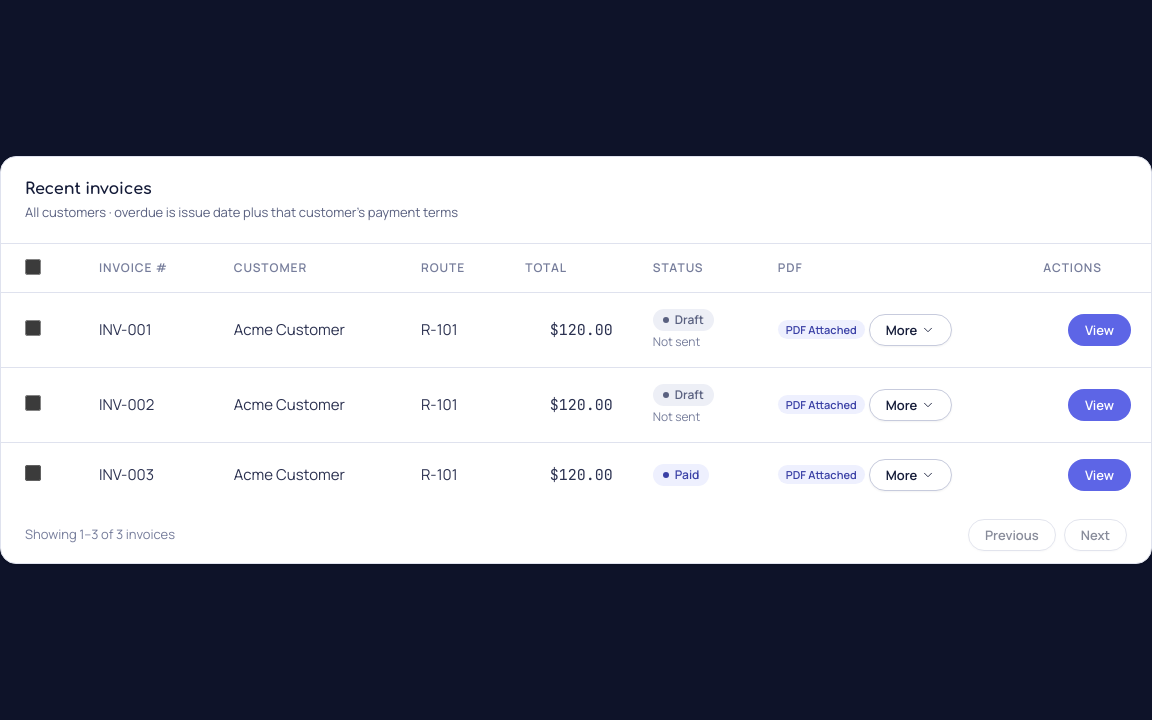
Test case: InvoiceListTable › supports select-all, indeterminate state, and bulk mark-paid through confirmation
expect the checkbox named "Select invoice INV-003" is disabled: met, box x1=25 y1=465 x2=41 y2=481
Note: Selecting one of two eligible rows puts the header checkbox in an indeterminate state.
Click the checkbox named "Select invoice INV-001".
click(33, 328)  # box x1=25 y1=320 x2=41 y2=336
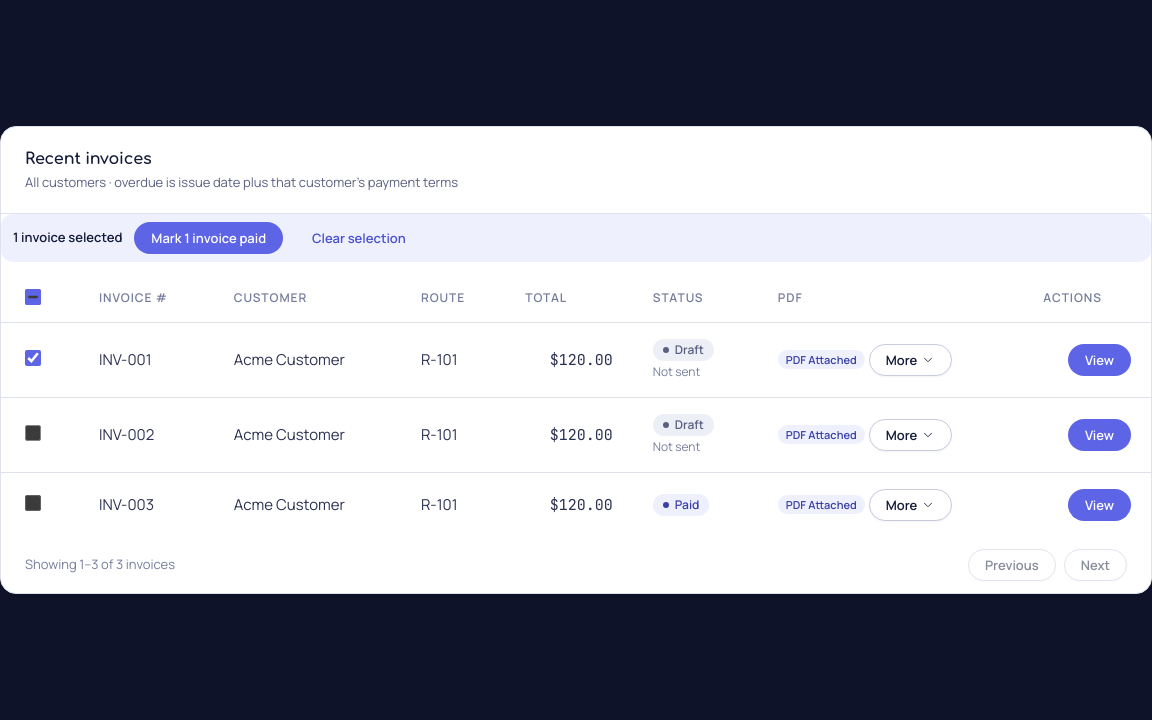
expect the text "1 invoice selected" is shown: met, box x1=13 y1=228 x2=122 y2=248
Note: Select-all picks up every eligible row on the page.
Click the checkbox named "Select all unpaid invoices on this page".
click(33, 297)  # box x1=25 y1=289 x2=41 y2=305
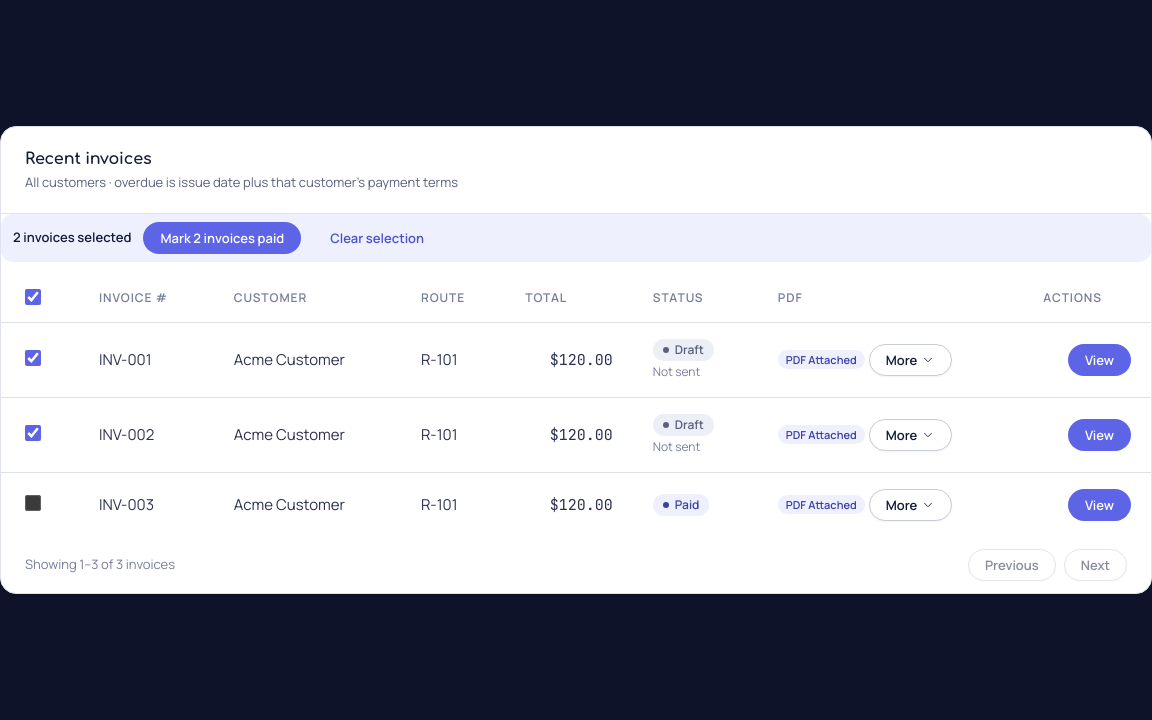
expect the checkbox named "Select invoice INV-001" is checked: met, box x1=25 y1=350 x2=41 y2=366
expect the checkbox named "Select all unpaid invoices on this page" is checked: met, box x1=25 y1=289 x2=41 y2=305
expect the checkbox named "Select invoice INV-002" is checked: met, box x1=25 y1=425 x2=41 y2=441
Click the button "Mark 2 invoices paid".
click(222, 238)  # box x1=143 y1=222 x2=301 y2=254
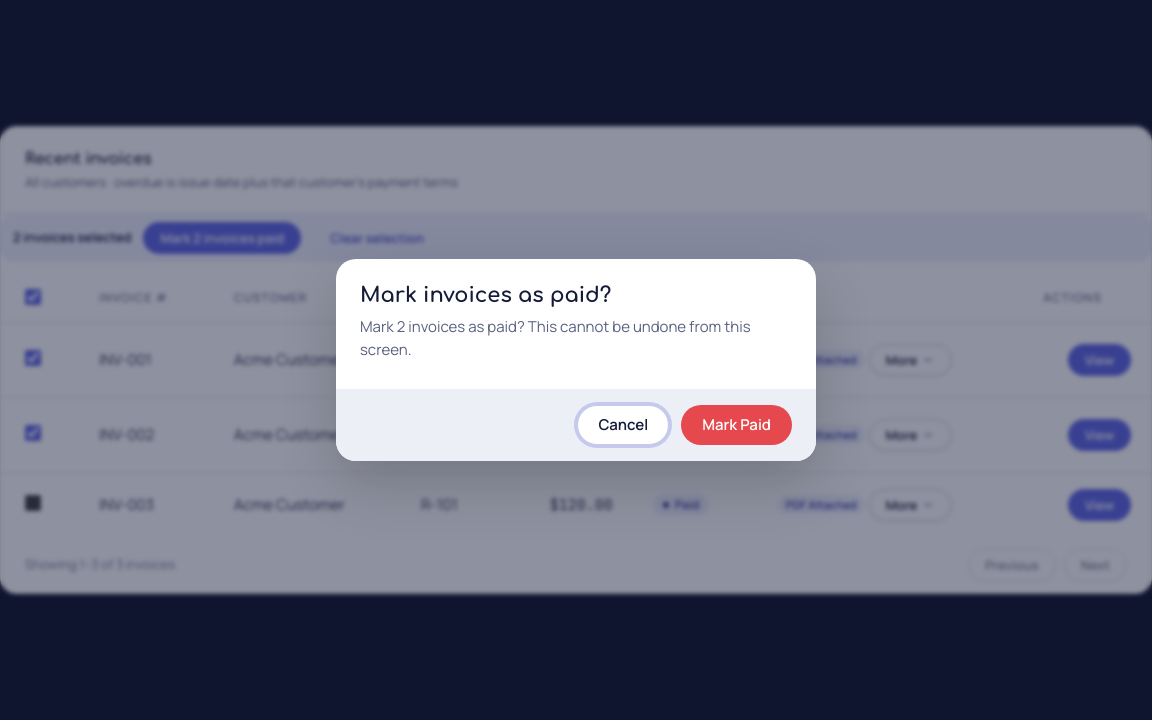
expect the dialog "Mark invoices as paid?" shows "Mark 2 invoices as paid? This cannot be undone from this screen.": met, box x1=360 y1=316 x2=751 y2=360
Note: Cancelling keeps the selection and does not mutate.
Click the button "Cancel".
click(623, 425)  # box x1=577 y1=405 x2=669 y2=445
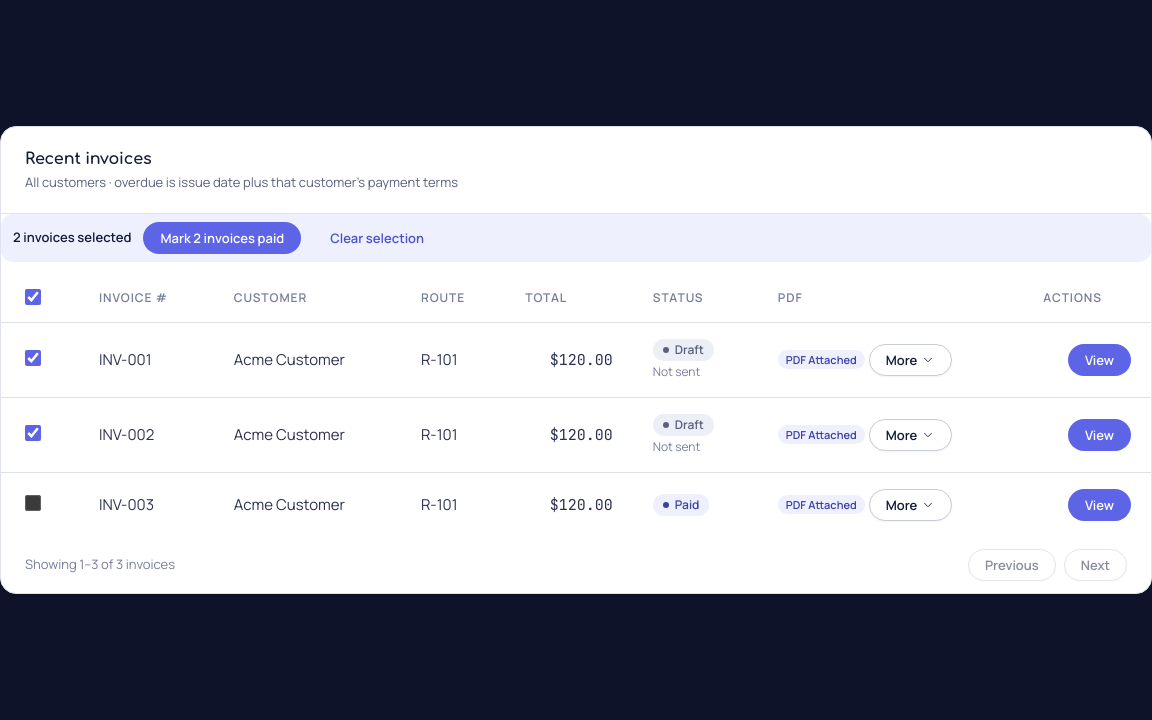
expect the text "2 invoices selected" is shown: met, box x1=13 y1=228 x2=131 y2=248
Note: Confirming runs the mutation once per selected invoice.
Click the button "Mark 2 invoices paid".
click(222, 238)  # box x1=143 y1=222 x2=301 y2=254
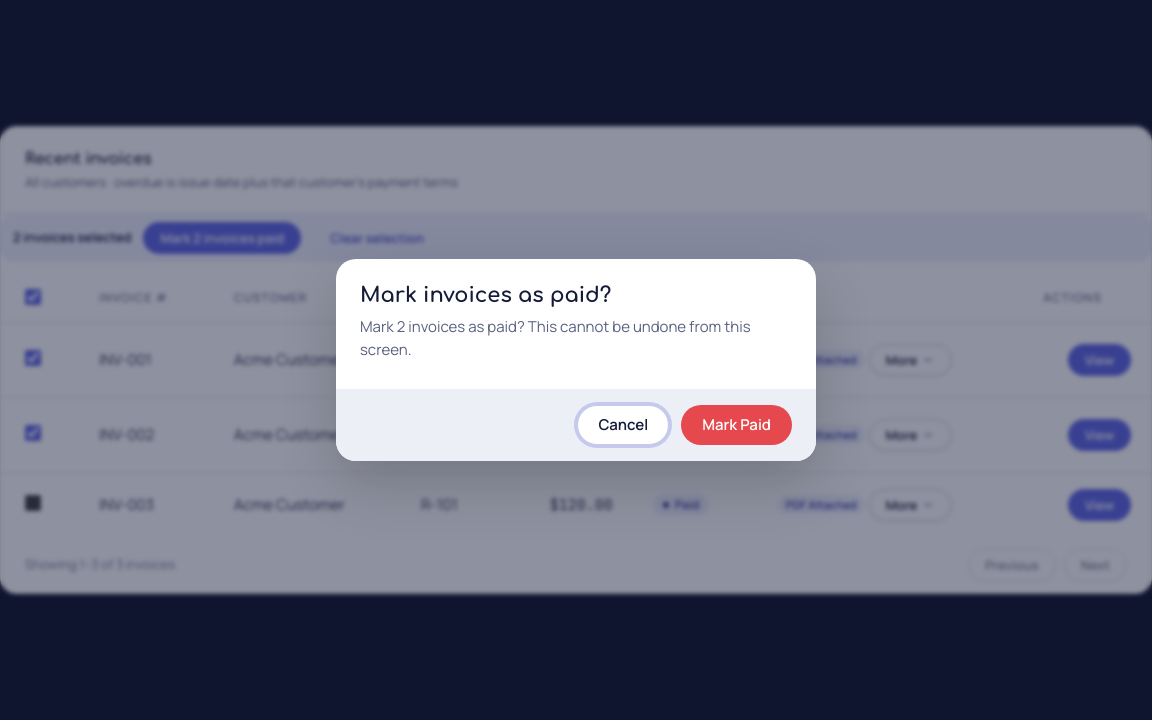
Click the button "Mark Paid".
click(737, 425)  # box x1=681 y1=405 x2=792 y2=445
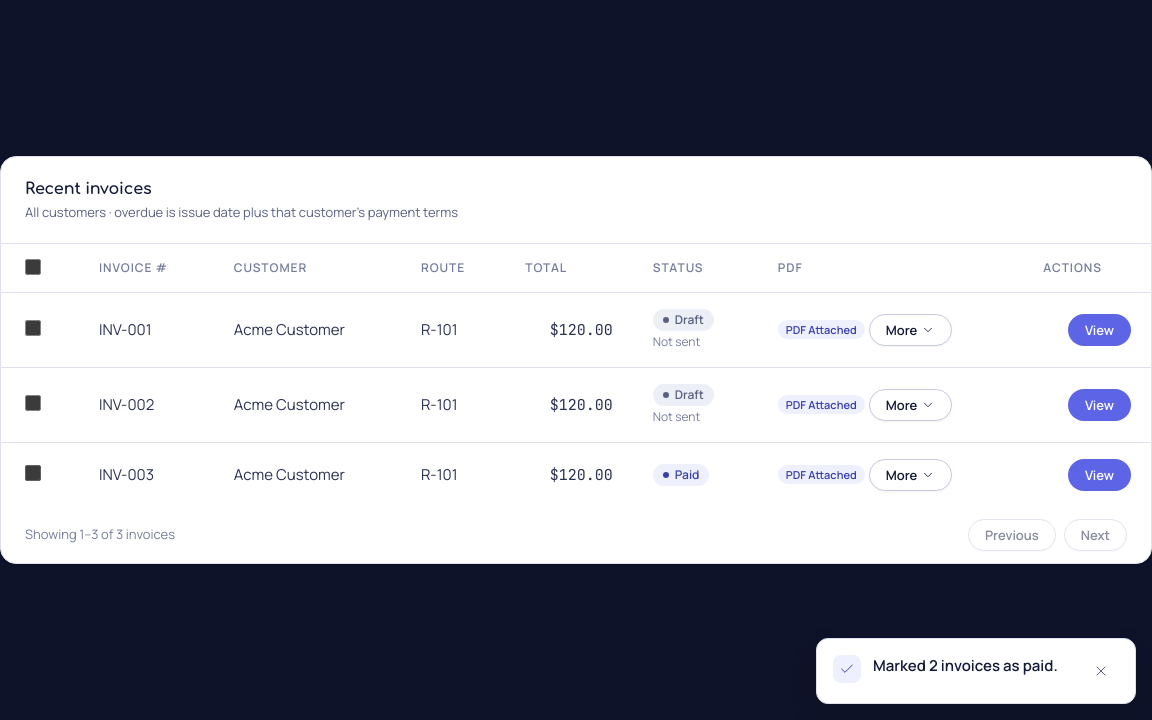
expect the checkbox named "Select invoice INV-001" is not checked: met, box x1=25 y1=320 x2=41 y2=336
expect the text "Marked 2 invoices as paid." is shown: met, box x1=873 y1=655 x2=1070 y2=678
expect the text "2 invoices selected" is gone: met
